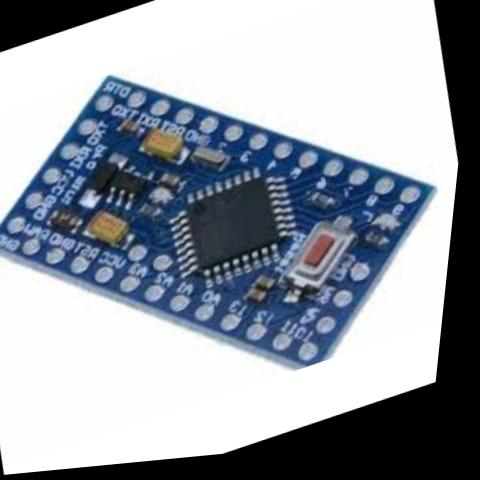Arduino-Pro-Mini: (0, 0, 479, 472)
